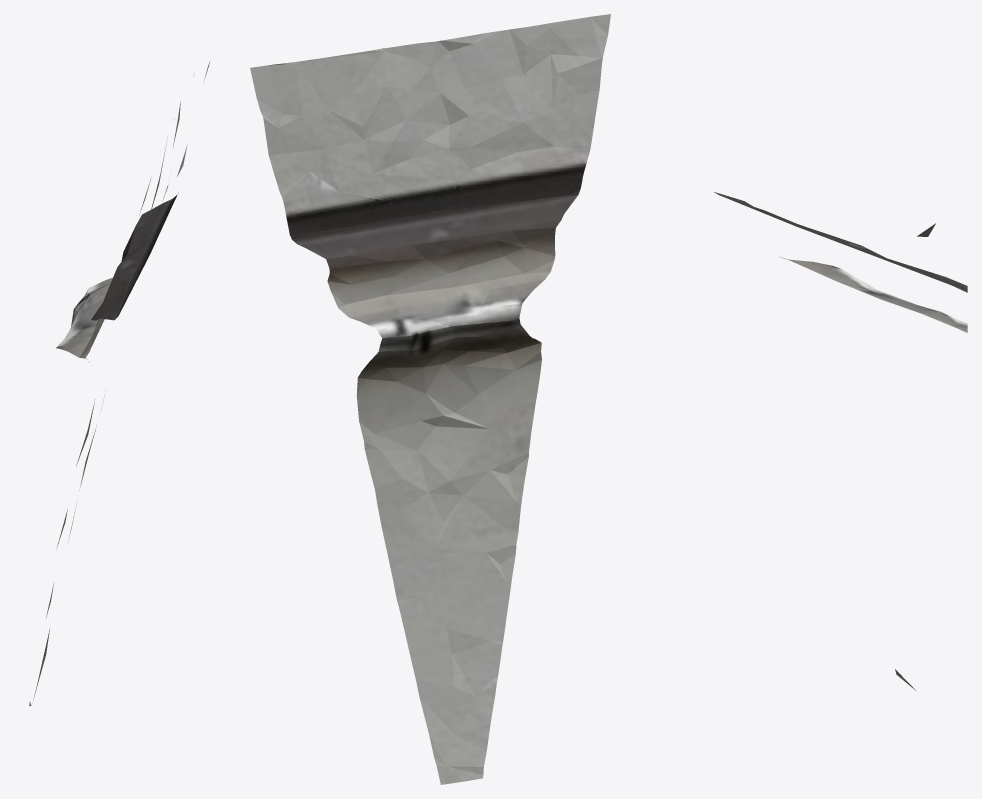
3 views of the same model, side by side, from view 1: azimuth 30°, elevation 25°; view 2: azimuth 150°, elevation 25°; view 3: azimuth 270°, elevation 25° (orthographic). The views are drawn at different scales.
Size of the model in its own units: 0.2817 by 0.8374 by 0.3291.
Materials: 1 (1 with a texture image).
